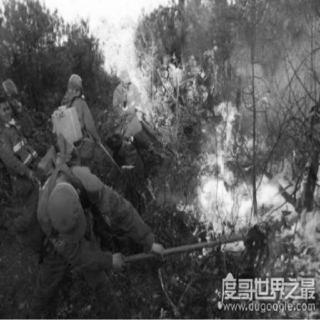other: (37, 168, 146, 315), (1, 77, 38, 205), (114, 67, 156, 177), (54, 83, 98, 165)
